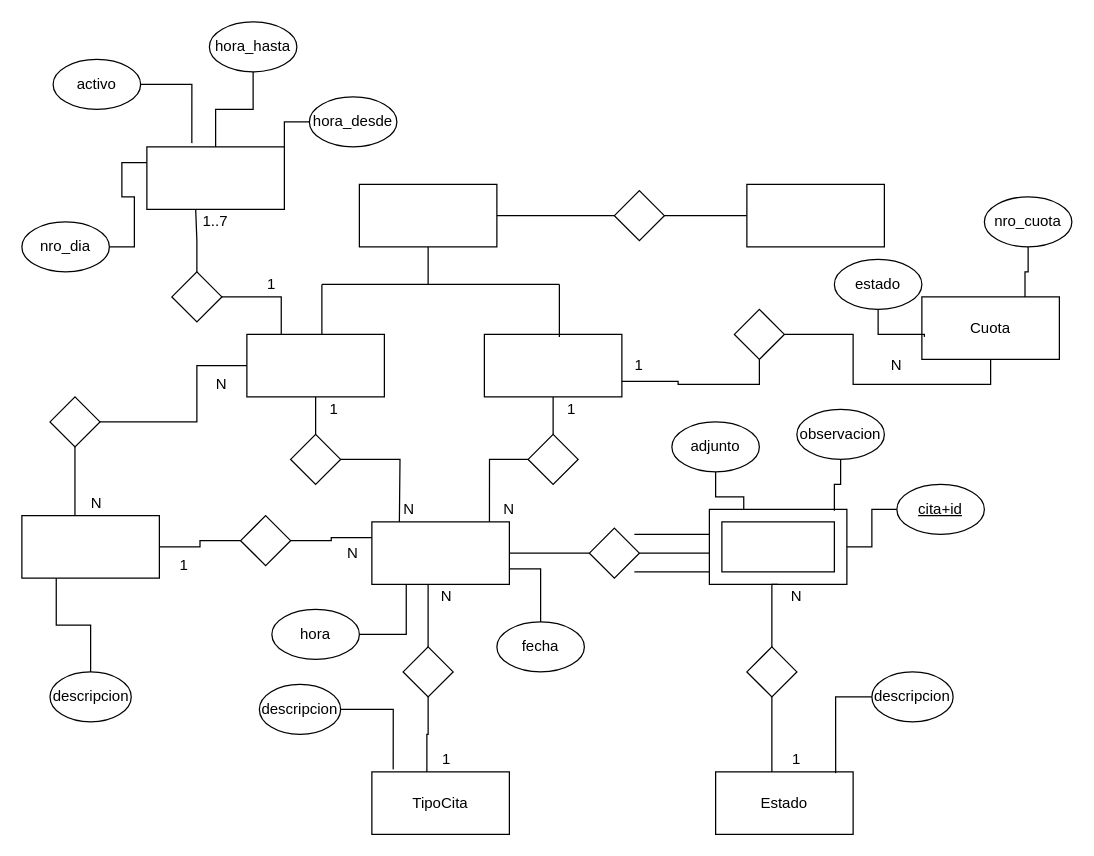
This 1094x856 diagram has some shape labels left out. Here are the shapes that lost their labels. From the top down, the centre of each, then its label:
At (215,177): "Agenda".
At (427,215): "Usuario".
At (815,215): "Persona".
At (315,365): "Medico".
At (552,365): "Paciente".
At (90,546): "Especialidad".
At (440,552): "Cita".
At (777,546): "CitaHistoria".
